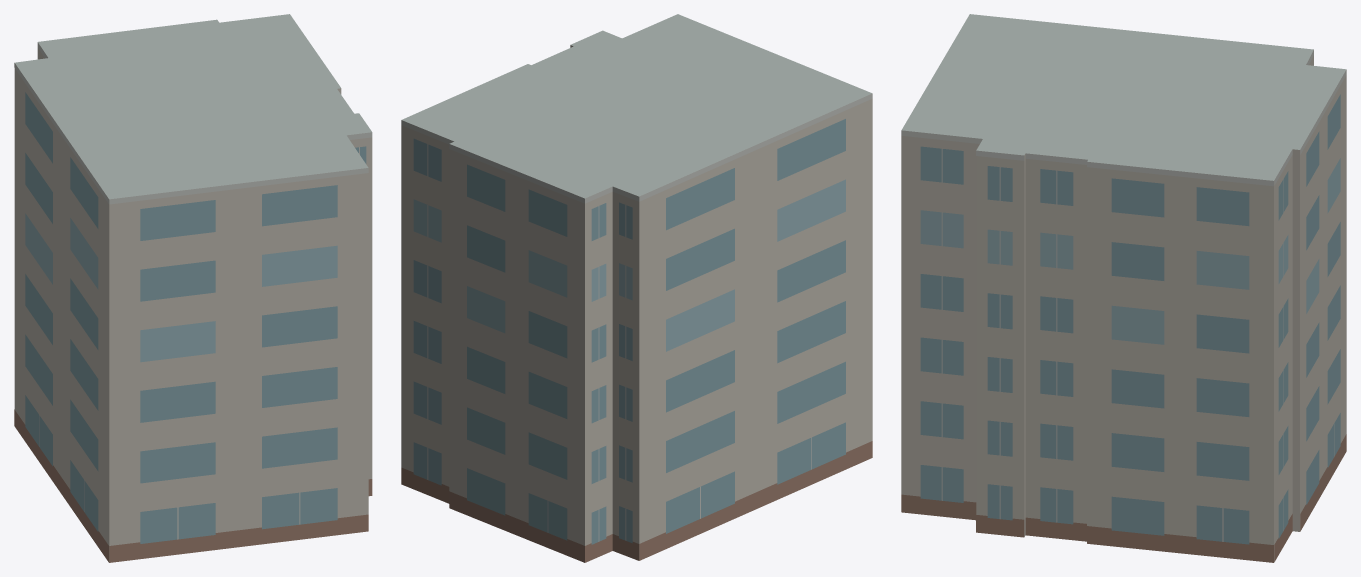
Rendered from survey-upis-32978054.glb.
3 views of the same model, side by side, from view 1: azimuth 30°, elevation 25°; view 2: azimuth 150°, elevation 25°; view 3: azimuth 270°, elevation 25° (orthographic). The views are drawn at different scales.
Visible parts, largest first — view 1: survey-upis-32978054.tmp; view 2: survey-upis-32978054.tmp; view 3: survey-upis-32978054.tmp.
Boxes of the visible parts, x1,y1,x2,y2 form: survey-upis-32978054.tmp: [14, 14, 372, 562]; survey-upis-32978054.tmp: [401, 14, 872, 562]; survey-upis-32978054.tmp: [901, 14, 1346, 562].
Size of the model in its own units: 16.17 by 17.25 by 18.23.
